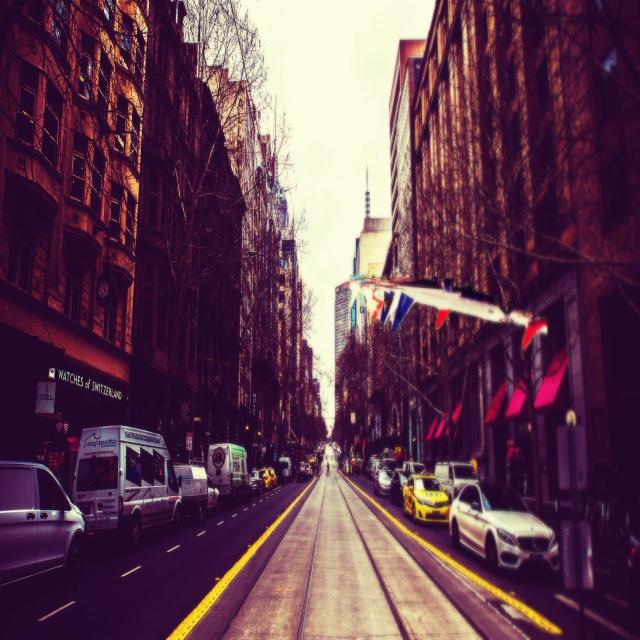airplane: (348, 272, 548, 352)
